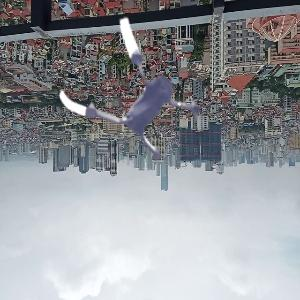drone: (58, 11, 224, 177)
